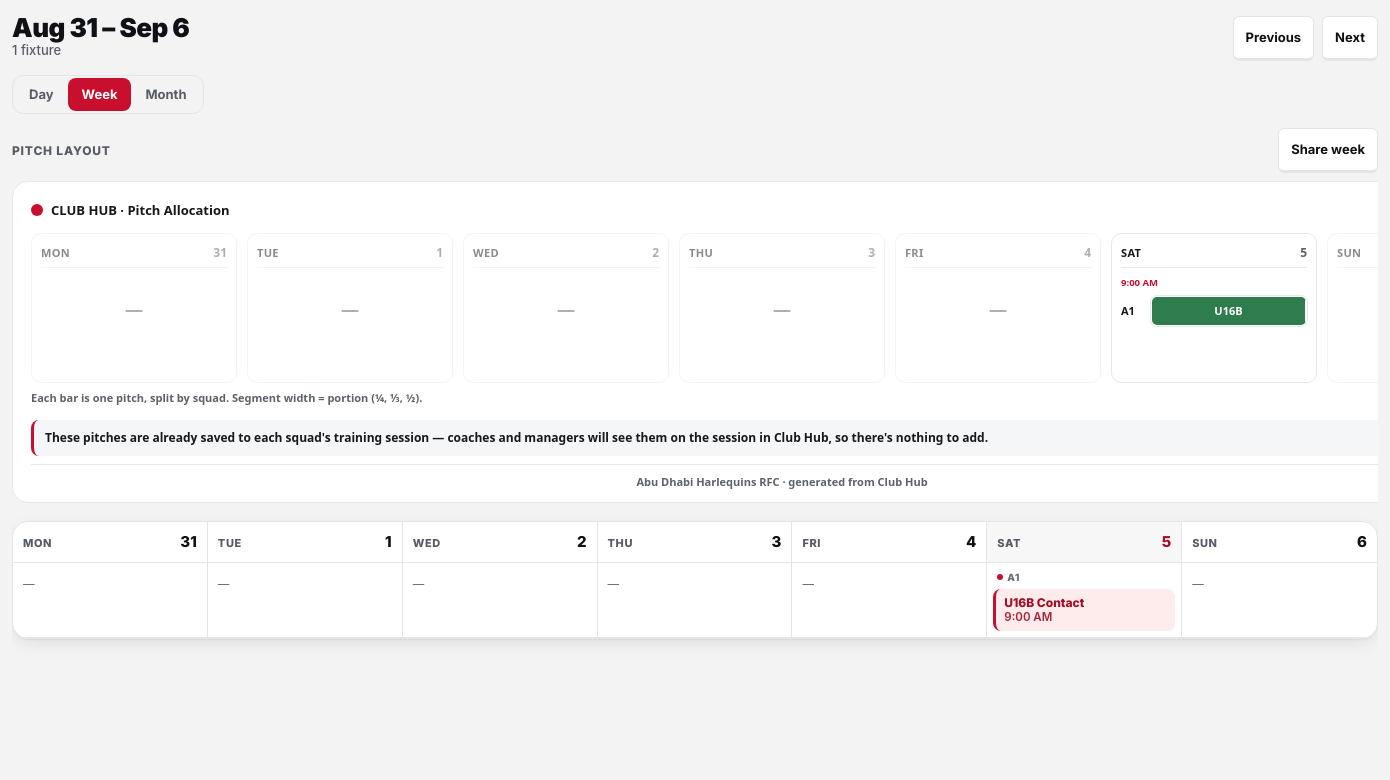
Test: the screen › moves a day at a time and can come back to today
Step 1. Click the tab "Day" → (41, 95), box [15, 78, 68, 111]
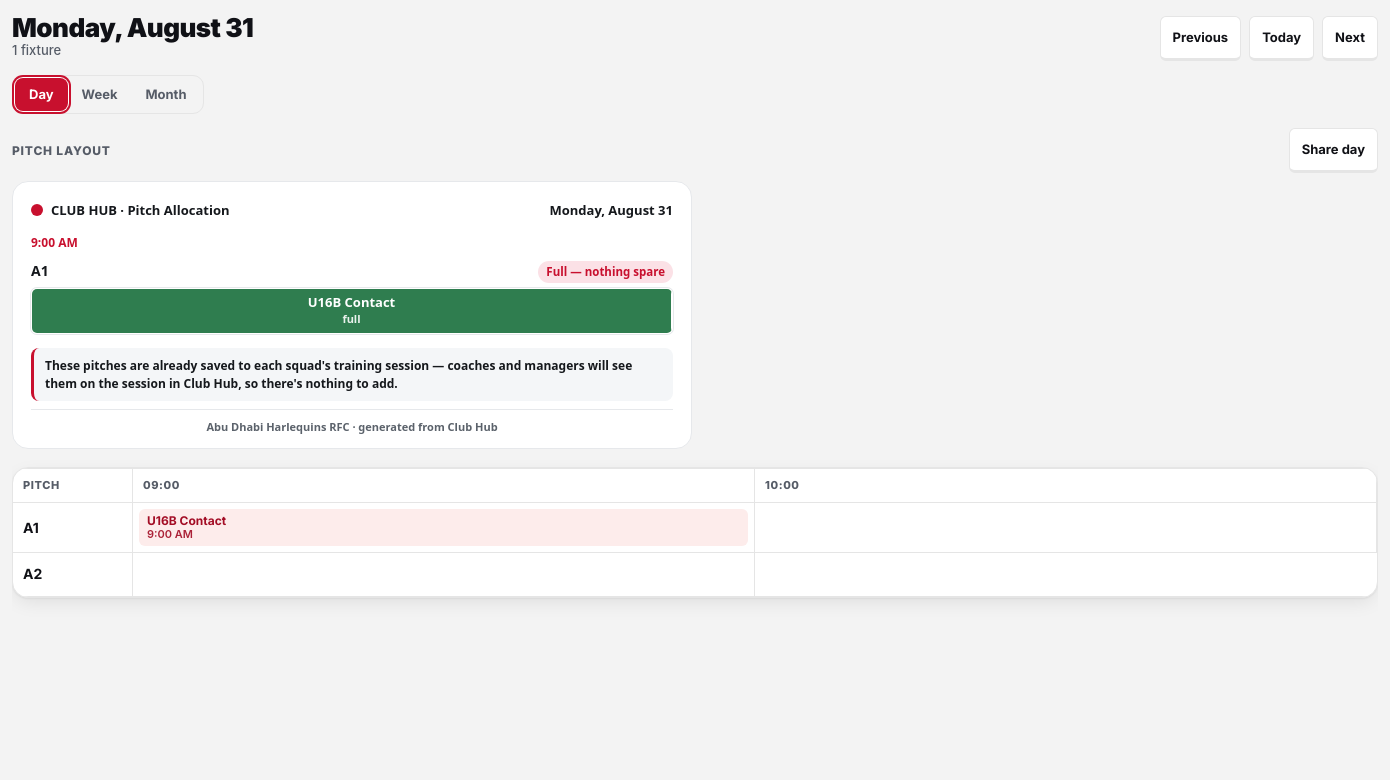
Now the element with test id "allocation-grid" is shown, box [13, 468, 1377, 597]
Off today: the button offers the way back…
Step 2. Click the button "Today" → (1282, 38), box [1249, 16, 1314, 61]
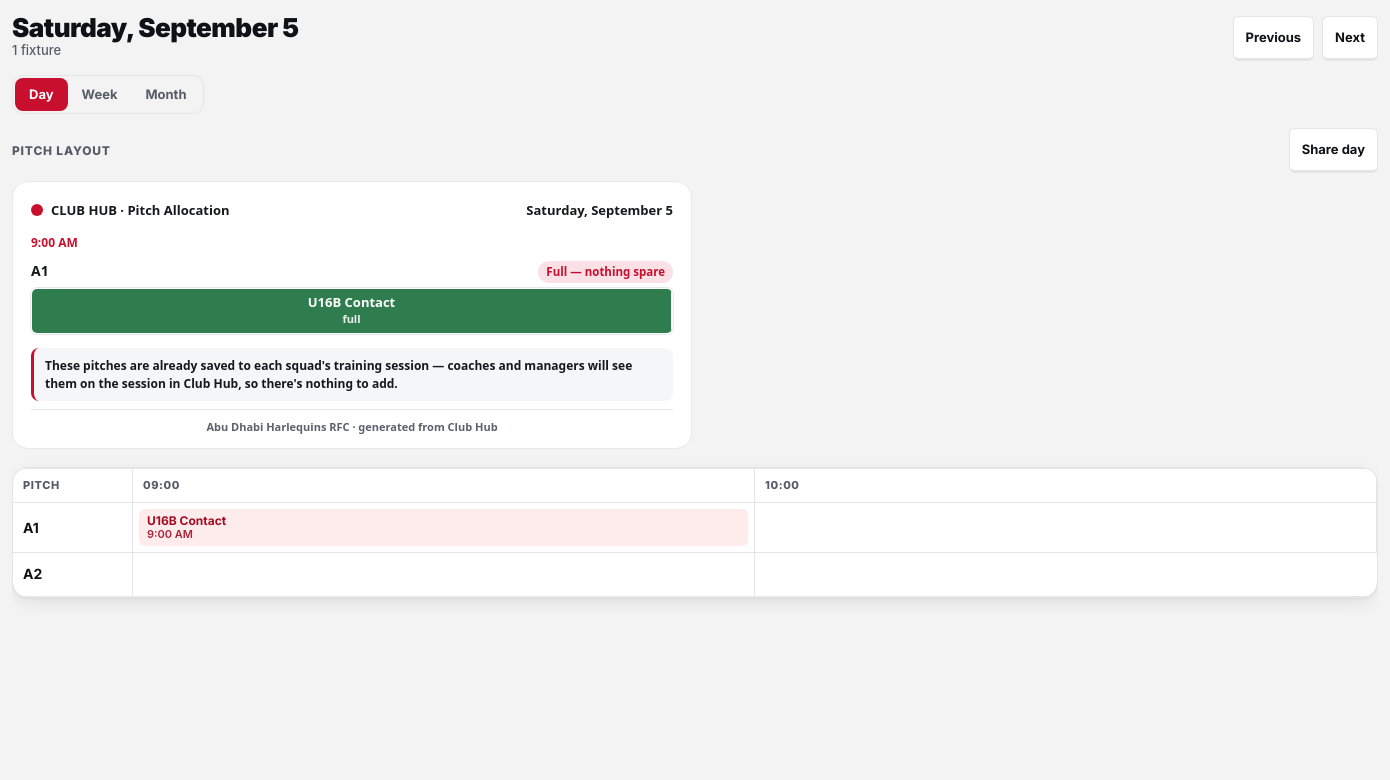
Now the button "Today" is gone
